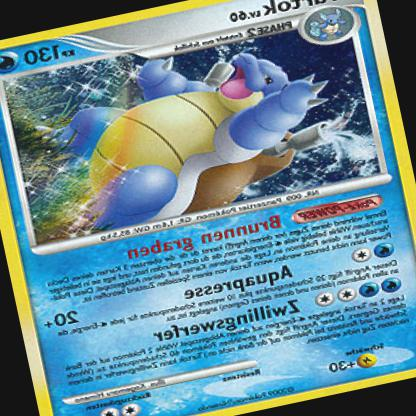Blastoise: (33, 28, 337, 238)
